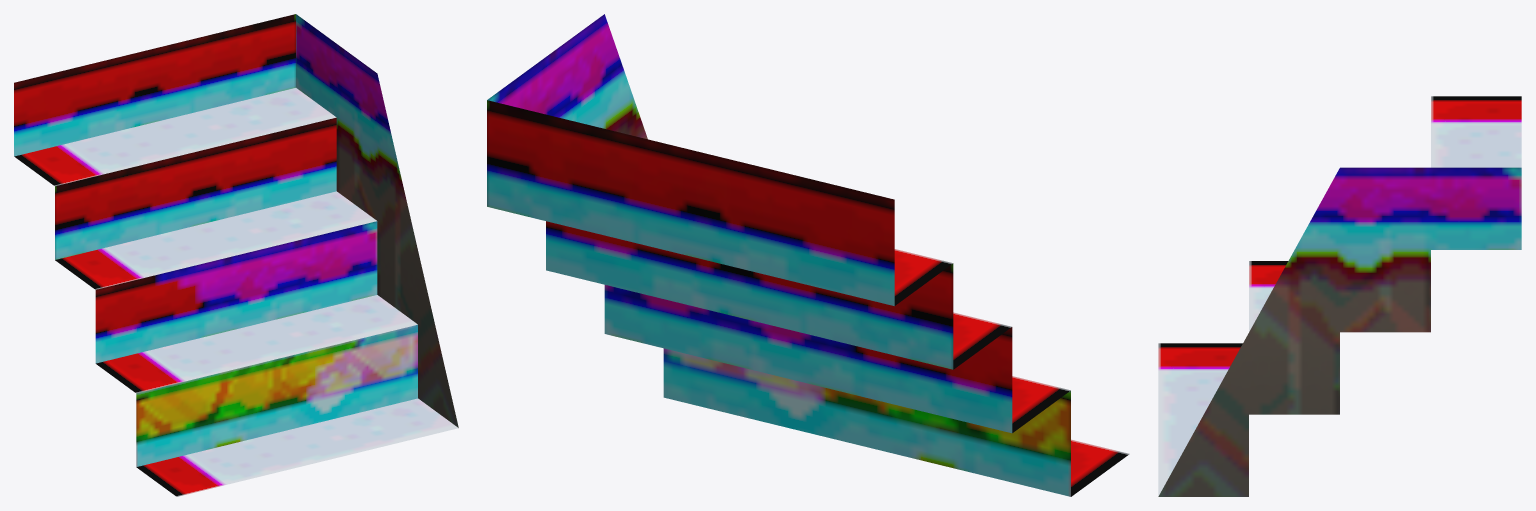
File: arch_winter_stairs_wallRight.FBX
The picture shows the model from 3 angles, left to right: view 1: azimuth 30°, elevation 25°; view 2: azimuth 150°, elevation 25°; view 3: azimuth 270°, elevation 25°; orthographic projection. The views are drawn at different scales.
Parts seen in each view (by area): view 1: arch_winter_stairs_wallRight; view 2: arch_winter_stairs_wallRight; view 3: arch_winter_stairs_wallRight.
Boxes of the visible parts, bbox=[...] form: arch_winter_stairs_wallRight: bbox=[14, 14, 458, 496]; arch_winter_stairs_wallRight: bbox=[487, 14, 1129, 496]; arch_winter_stairs_wallRight: bbox=[1158, 96, 1521, 496].
Bounding box in the file's own units: 2 × 2 × 2.
Materials: 1 (1 with a texture image).
